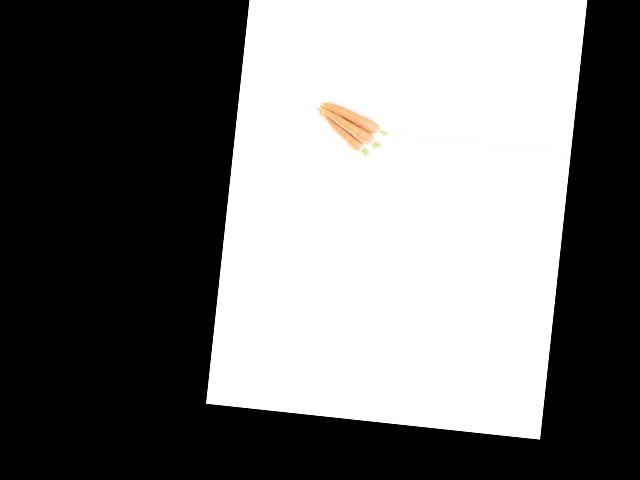carrot: (324, 91, 394, 136)
